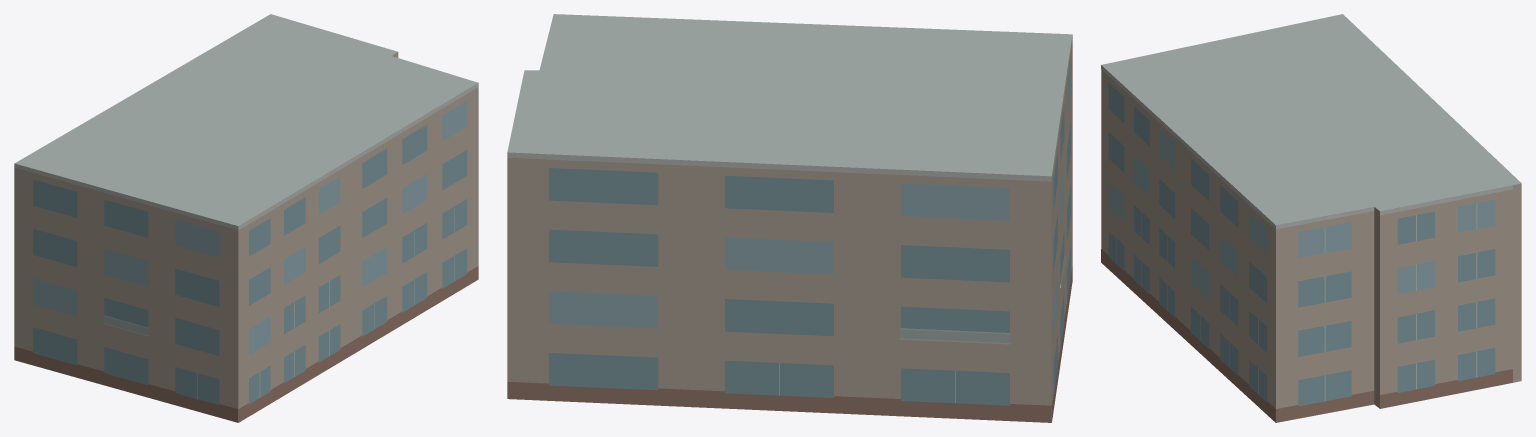
File: survey-upis-32983427.glb
3 renders of one model, left to right at view 1: azimuth 30°, elevation 25°; view 2: azimuth 150°, elevation 25°; view 3: azimuth 270°, elevation 25°, orthographic. The views are drawn at different scales.
Visible parts, largest first — view 1: survey-upis-32983427.tmp; view 2: survey-upis-32983427.tmp; view 3: survey-upis-32983427.tmp.
Boxes of the visible parts, x1,y1,x2,y2 form: survey-upis-32983427.tmp: (14, 14, 478, 422); survey-upis-32983427.tmp: (507, 14, 1072, 422); survey-upis-32983427.tmp: (1101, 14, 1521, 422).
Size of the model in its own units: 25.91 by 11.3 by 21.8.
